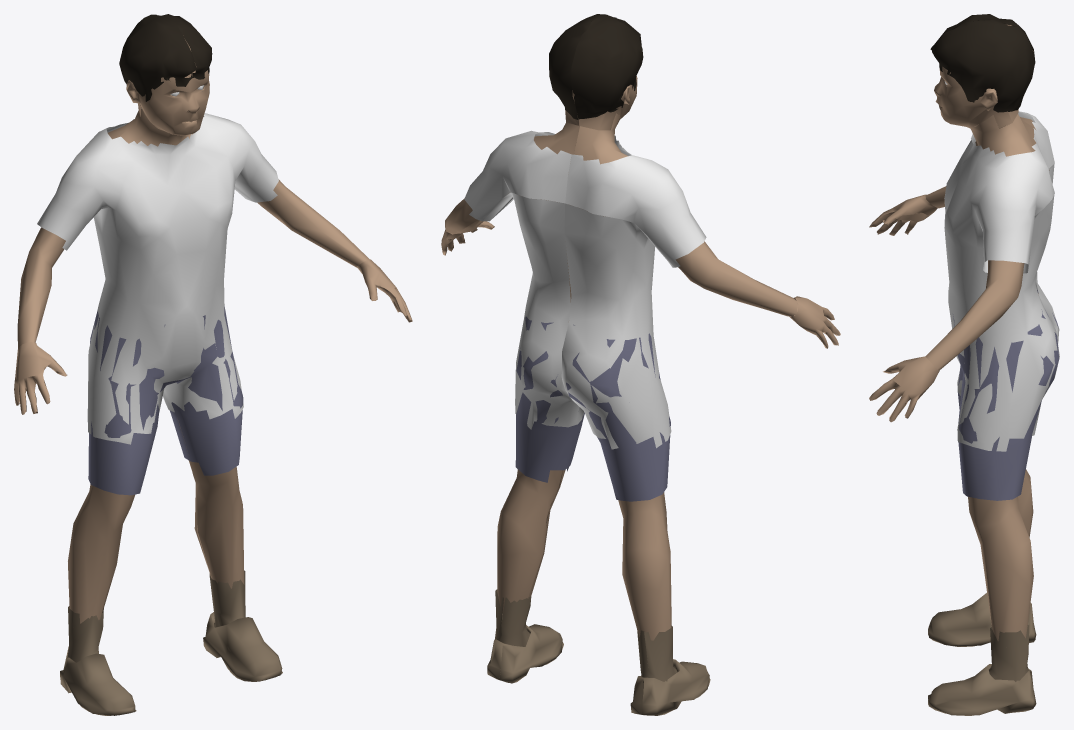
Rendered from child_00.glb.
The picture shows the model from 3 angles, left to right: view 1: azimuth 30°, elevation 25°; view 2: azimuth 150°, elevation 25°; view 3: azimuth 270°, elevation 25°; orthographic projection.
Visible parts, largest first — view 1: crowd; view 2: crowd; view 3: crowd.
Part boxes in pixels (x1,y1,x2,y2): crowd: [14, 14, 412, 715]; crowd: [441, 14, 840, 715]; crowd: [869, 14, 1059, 715].
Size of the model in its own units: 0.8712 by 1.42 by 0.3753.
